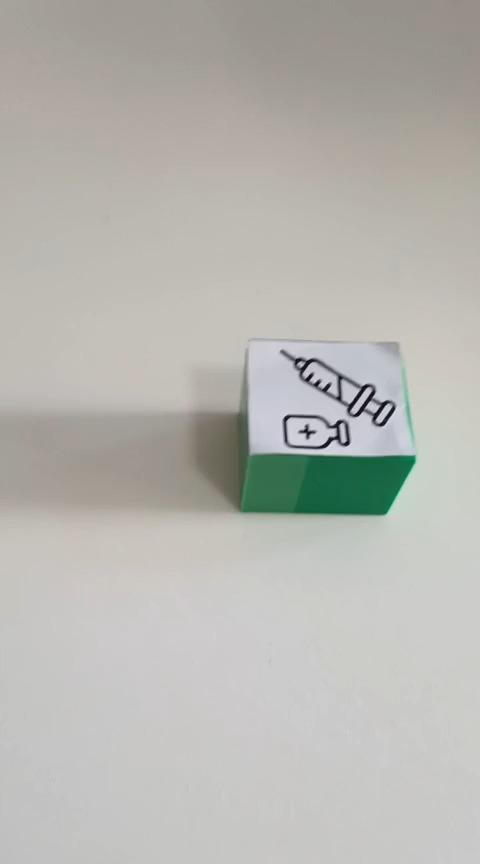antiseptic cream: (236, 336, 417, 516)
